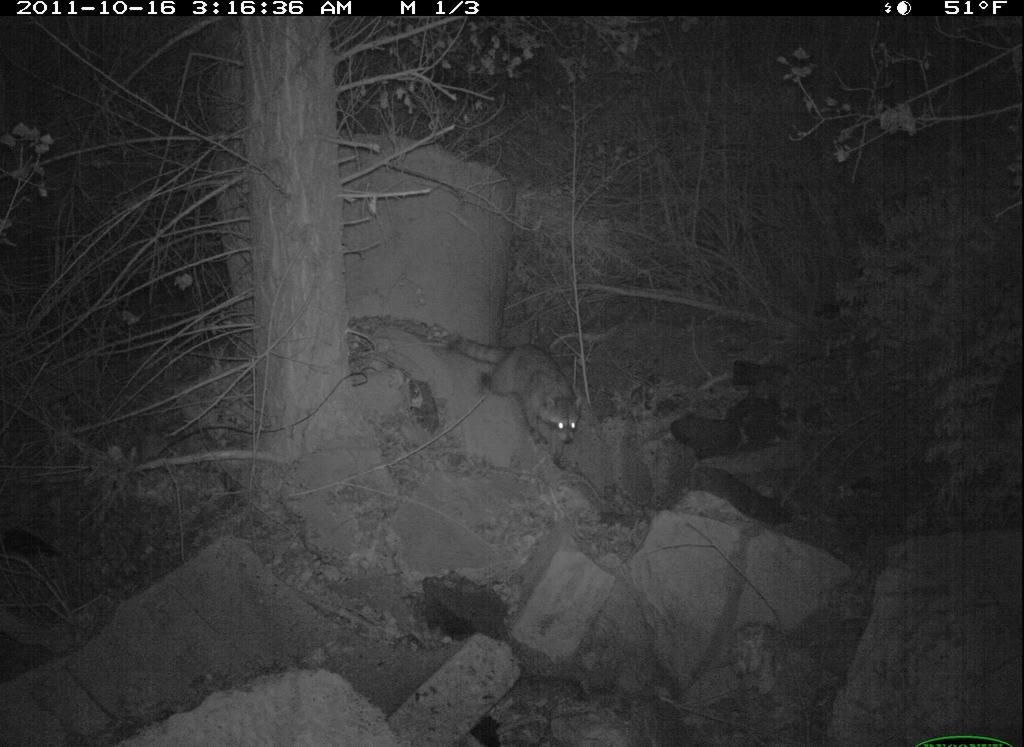raccoon: (440, 323, 580, 447)
